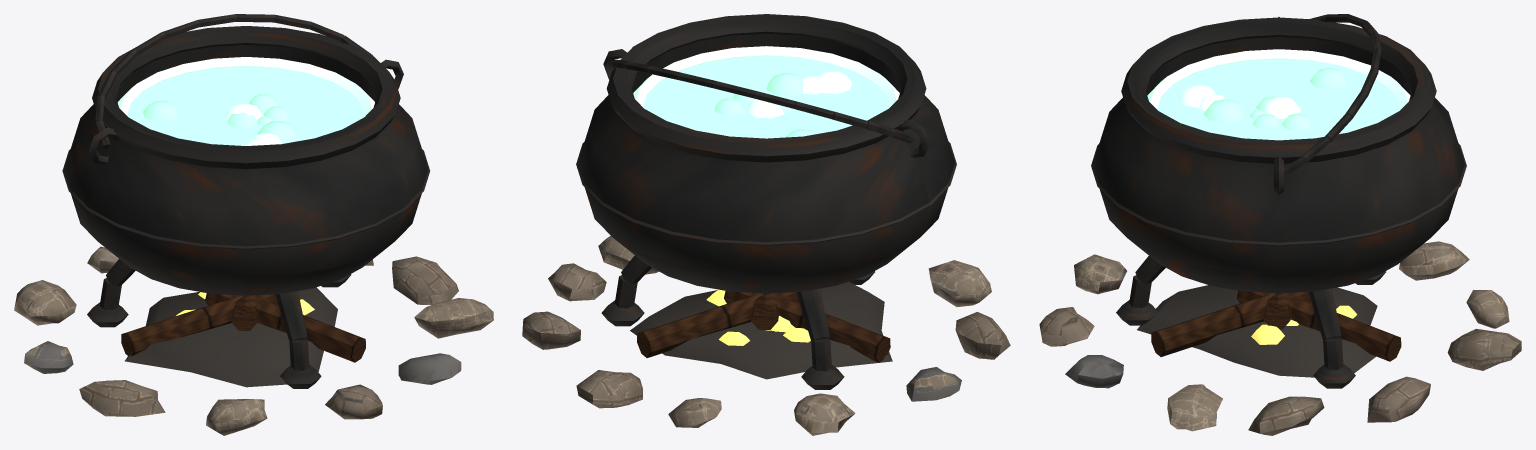
File: cauldron_green.glb
The picture shows the model from 3 angles, left to right: view 1: azimuth 30°, elevation 25°; view 2: azimuth 150°, elevation 25°; view 3: azimuth 270°, elevation 25°; orthographic projection. The views are drawn at different scales.
Visible parts, largest first — view 1: cauldron_green; view 2: cauldron_green; view 3: cauldron_green.
Boxes of the visible parts, x1,y1,x2,y2 form: cauldron_green: (14,14,493,435); cauldron_green: (522,14,1010,435); cauldron_green: (1039,14,1521,435).
Bounding box in the file's own units: 1.76 × 1.19 × 1.76.
Materials: 7 (3 with a texture image).
